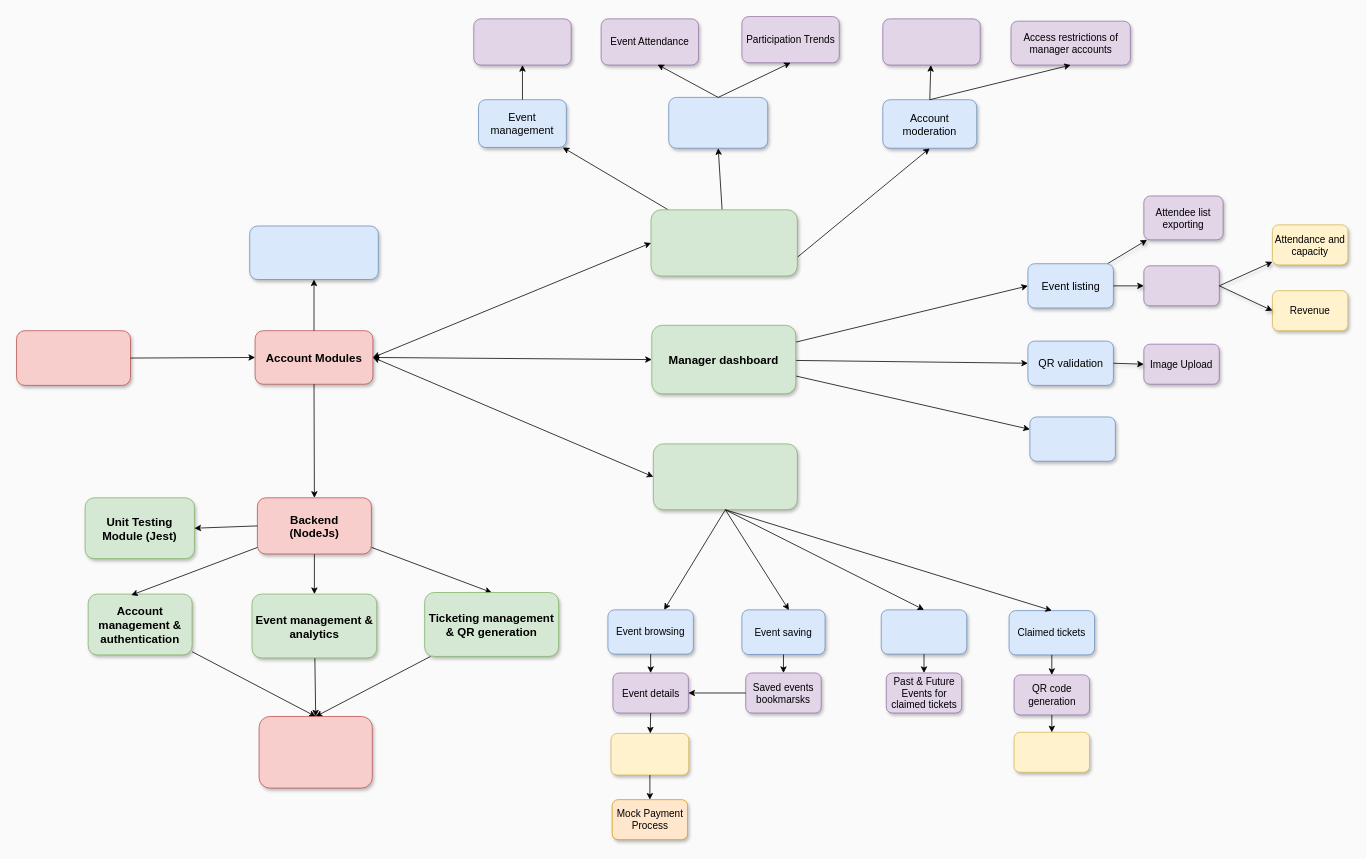
This 1366x859 diagram has some shape labels left out. The centre of each missing label's shape, as x and y in pixels:
"Account settings" belongs at point 314,253.
"Admin dashboard" belongs at point 724,243.
"Control of pending manager accounts" belongs at point 932,42.
"Database (MySQL)" belongs at point 316,753.
"Deletion of current listed events" belongs at point 523,42.
"Event Analytics" belongs at point 1182,286.
"Event Creation" belongs at point 1073,440.
"Events calendar" belongs at point 924,633.
"Platform analytics" belongs at point 718,124.
"QR code download as .png" belongs at point 1052,753.
"Student dashboard" belongs at point 725,477.
"Ticket claiming" belongs at point 650,755.
"User Interface (ReactJs)" belongs at point 74,359.
